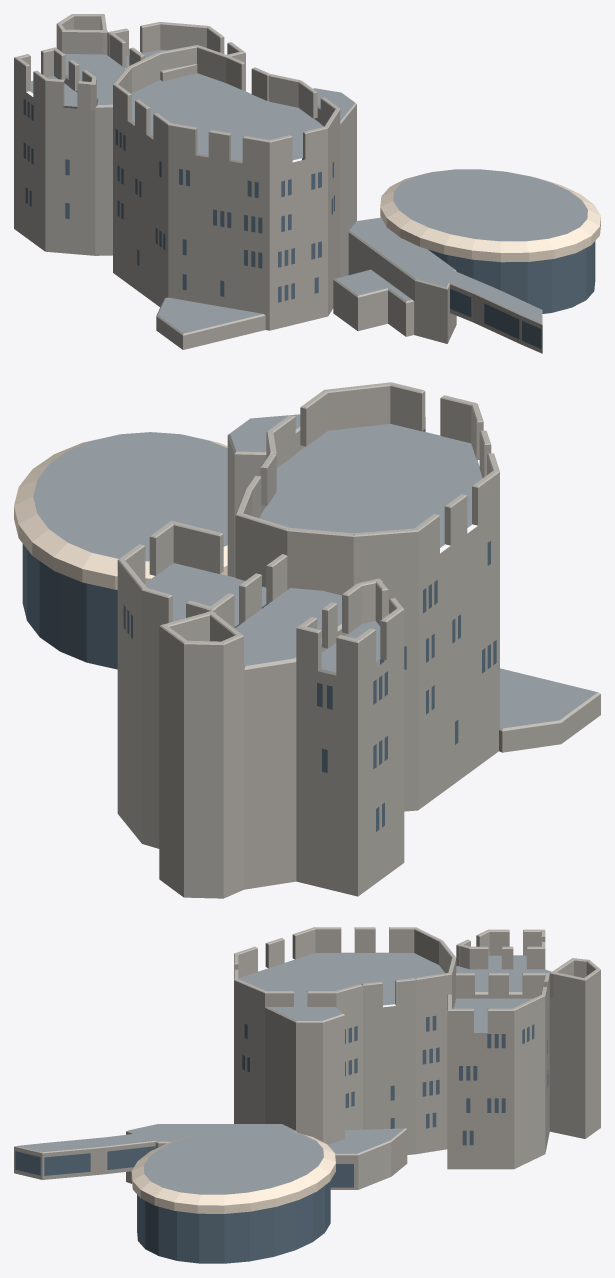
File: den-art-museum-martin.glb
The picture shows the model from 3 angles, top to bottom: view 1: azimuth 30°, elevation 25°; view 2: azimuth 150°, elevation 25°; view 3: azimuth 270°, elevation 25°; orthographic projection. The views are drawn at different scales.
Visible parts, largest first — view 1: Denver Art Museum, Martin Building; view 2: Denver Art Museum, Martin Building; view 3: Denver Art Museum, Martin Building.
Part boxes in pixels (x1,y1,x2,y2): Denver Art Museum, Martin Building: (14,14,600,353); Denver Art Museum, Martin Building: (14,382,600,898); Denver Art Museum, Martin Building: (14,927,600,1263).
Size of the model in its own units: 94.51 by 43.3 by 132.
